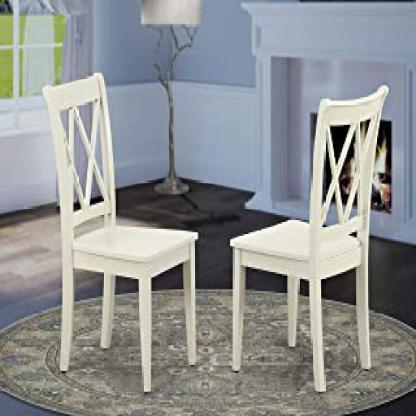chair: (34, 67, 203, 399), (232, 80, 390, 394)
light: (143, 2, 205, 199), (248, 164, 249, 165)
